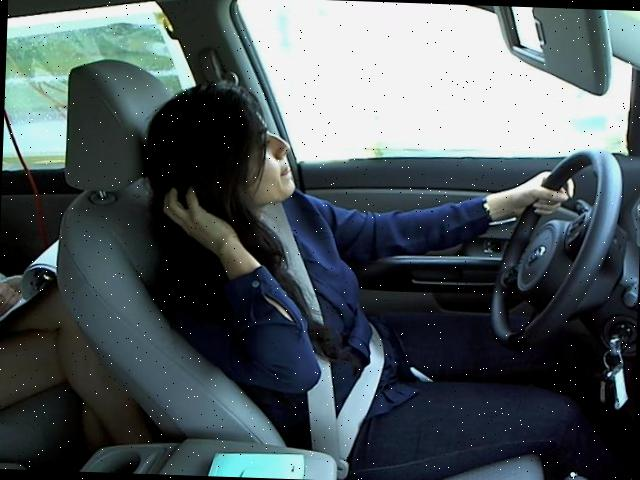c6 - Hair and Makeup: (124, 73, 636, 407)
